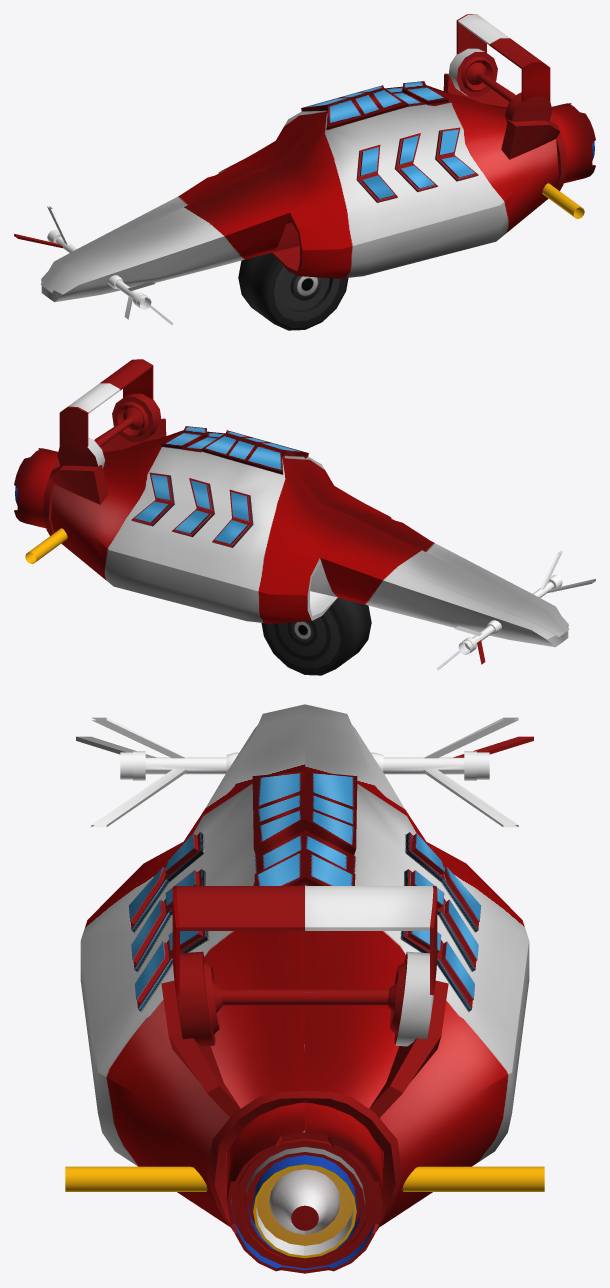
3 renders of one model, top to bottom at view 1: azimuth 30°, elevation 25°; view 2: azimuth 150°, elevation 25°; view 3: azimuth 270°, elevation 25°, orthographic. The views are drawn at different scales.
Visible parts, largest first — view 1: Base, Part_2, Part_1, back_L_tyre1, Part_3, Engine, Part_5; view 2: Base, Part_2, Part_1, back_L_tyre1, Part_4, Engine, Part_5; view 3: Base, Part_1, Engine, Part_2, Part_5, Part_3, Part_4.
Part boxes in pixels (x1,y1,x2,y2): Base: [14, 73, 584, 324]; Part_2: [40, 167, 272, 293]; Part_1: [448, 14, 552, 123]; back_L_tyre1: [238, 252, 348, 330]; Part_3: [356, 127, 478, 202]; Engine: [551, 103, 595, 183]; Part_5: [301, 85, 408, 129]; Base: [25, 418, 595, 669]; Part_2: [337, 512, 569, 638]; Part_1: [57, 359, 161, 468]; back_L_tyre1: [261, 597, 371, 675]; Part_4: [131, 472, 253, 547]; Engine: [14, 448, 58, 528]; Part_5: [201, 430, 308, 474]; Base: [65, 717, 544, 1231]; Part_1: [172, 886, 437, 1046]; Engine: [227, 1102, 382, 1273]; Part_2: [217, 704, 392, 805]; Part_5: [252, 771, 357, 854]; Part_3: [129, 832, 208, 1011]; Part_4: [401, 832, 480, 1011].
Bounding box in the file's own units: 19.08 × 7.81 × 7.28.
